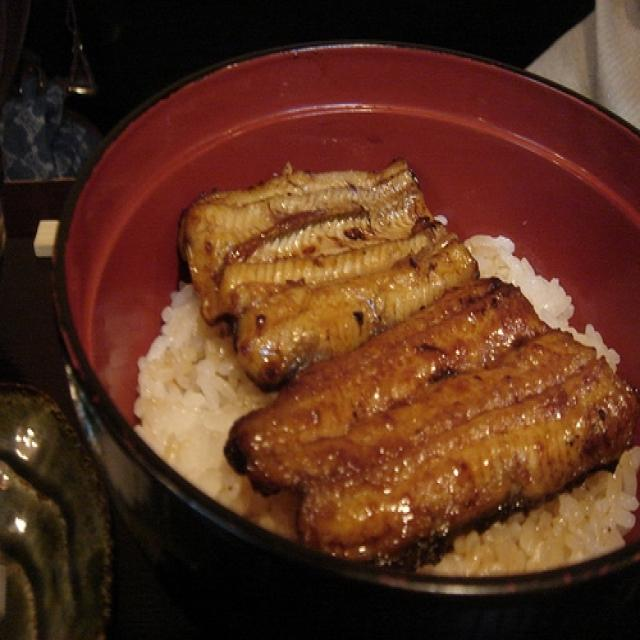熟制海鲜: (77, 63, 623, 603)
